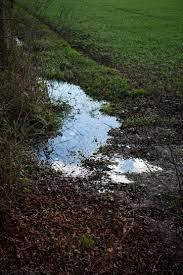Stagnant water: (7, 25, 183, 201)
